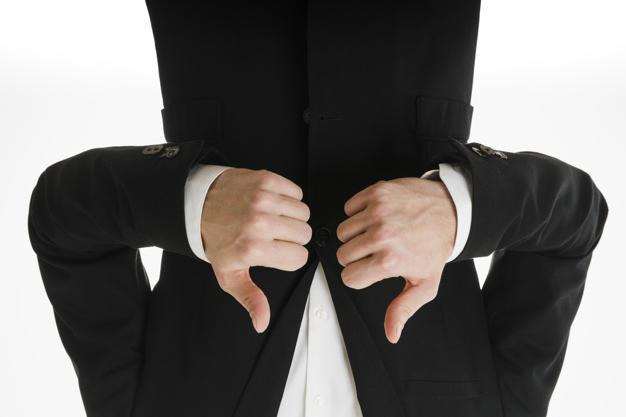thumbsdown: (336, 181, 422, 344), (228, 168, 312, 334)
